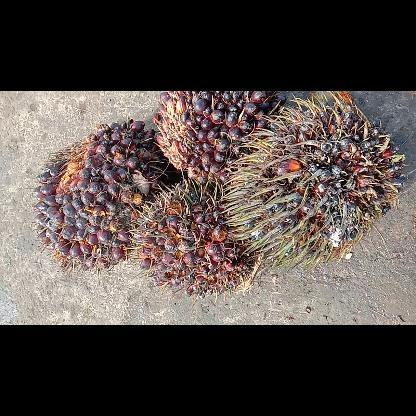Kurang masak: (132, 181, 254, 292), (154, 90, 284, 182)
TBS abnormal: (227, 91, 401, 267)
TBS masak: (35, 118, 172, 270)
